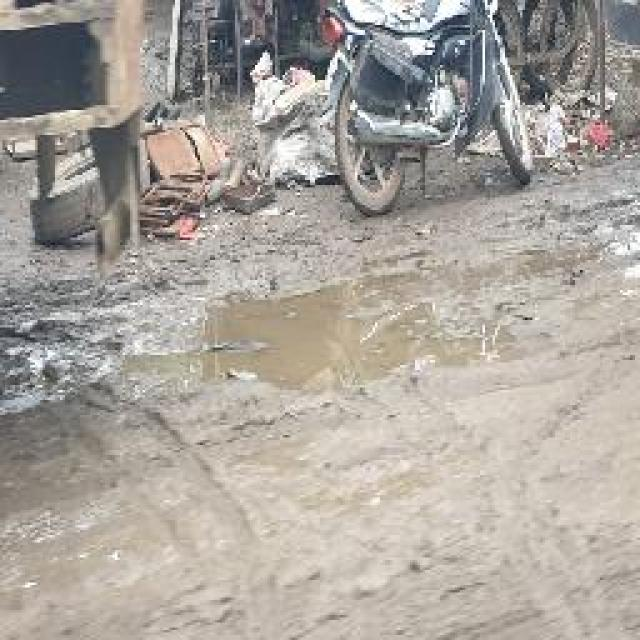waterlogging: (189, 252, 547, 408)
